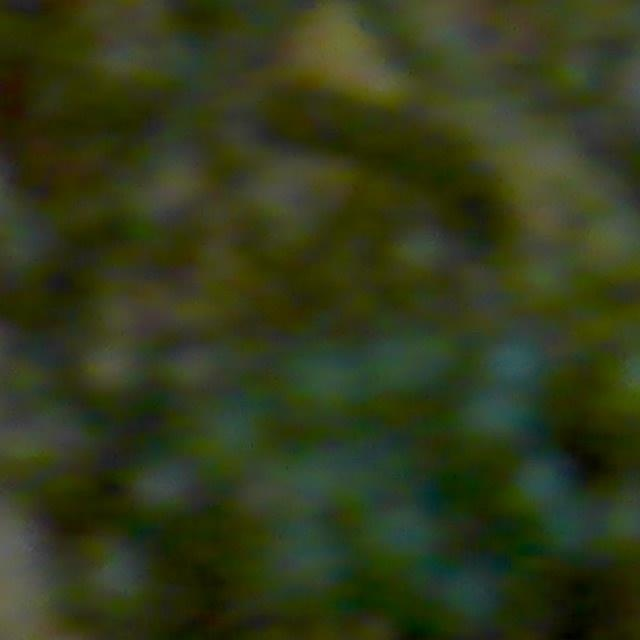SeaGrape: (279, 337, 371, 425), (76, 536, 161, 622), (191, 391, 276, 475), (376, 320, 461, 397), (428, 556, 508, 636), (358, 496, 441, 573), (455, 381, 535, 454), (126, 452, 200, 523), (503, 451, 575, 523), (385, 221, 453, 285), (478, 330, 546, 392)
